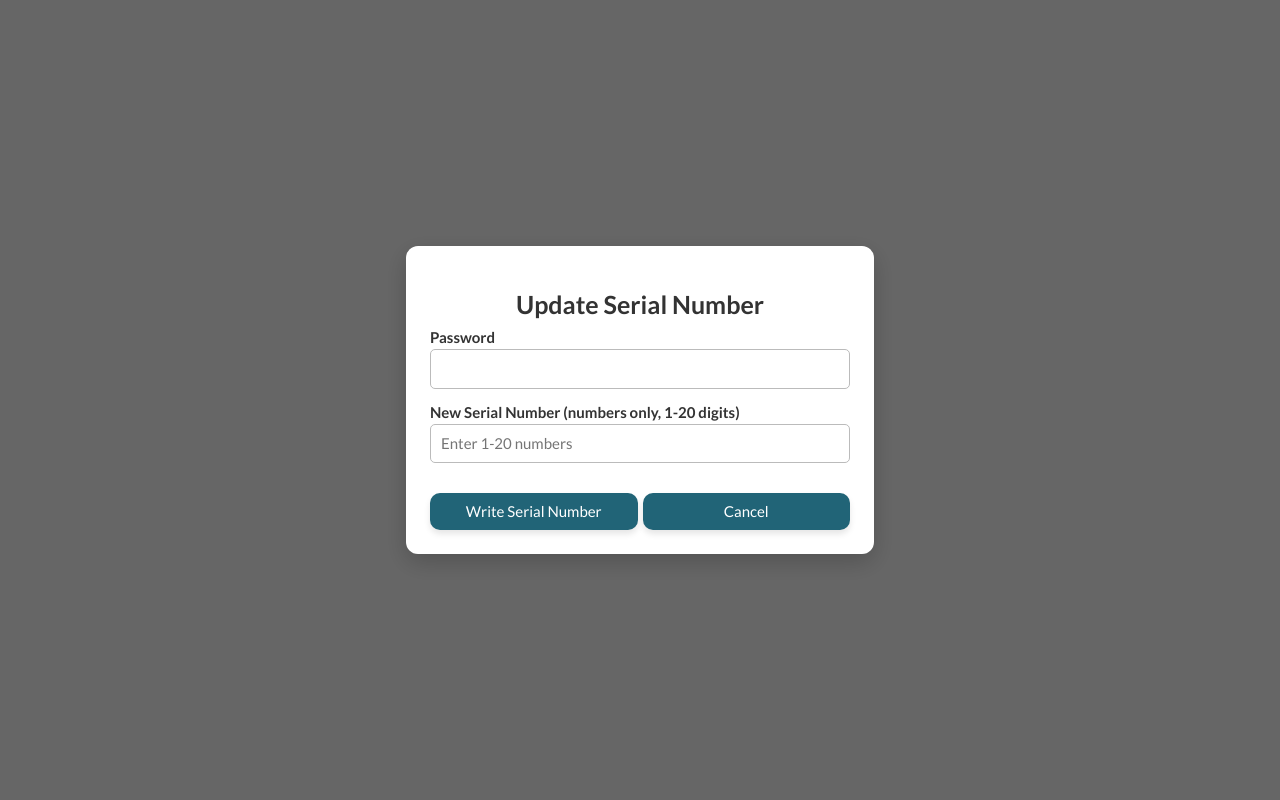
Scenario: SerialNumberModal › shows error when password write fails
Step 1. Type "1111" into the password field labelled "Password" → (640, 369), box [430,349,850,389]
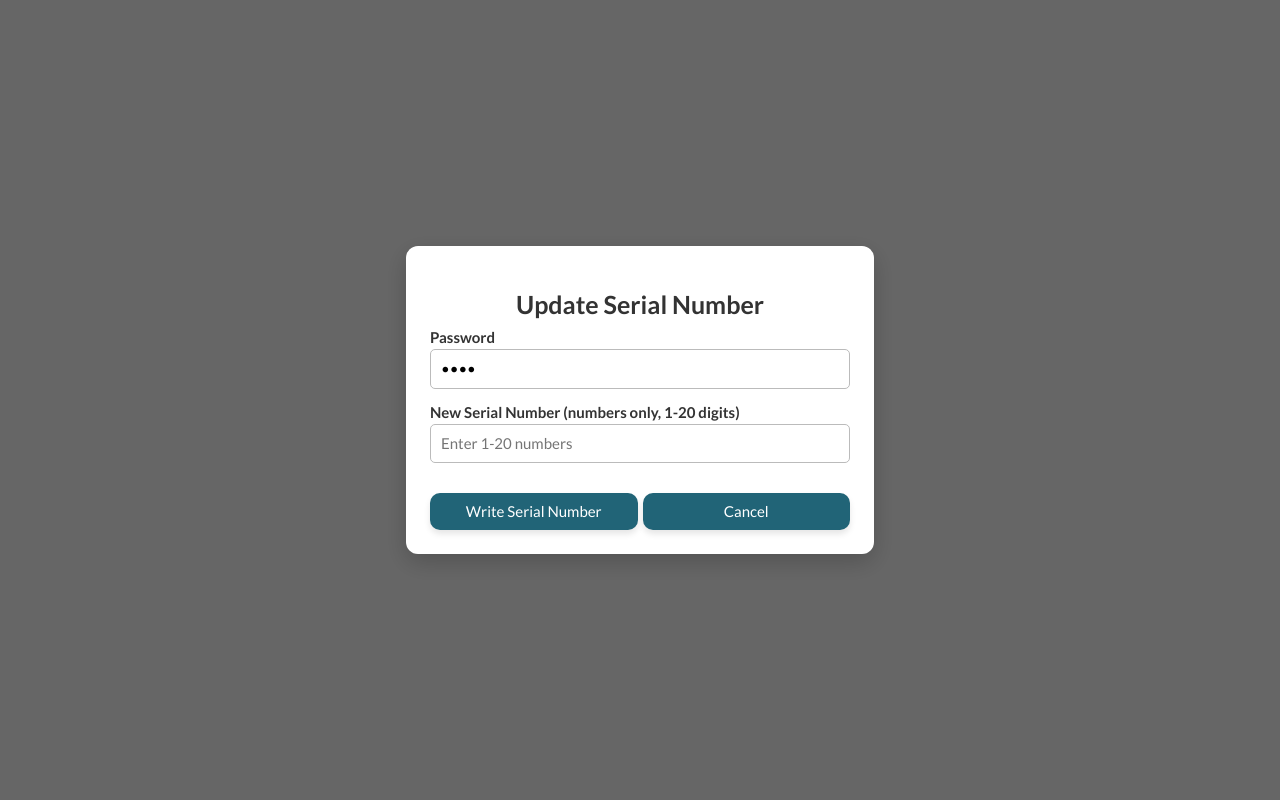
Step 2. Type "12345" into the field labelled "New Serial Number (numbers only, 1-20 digits)" → (640, 444), box [430,424,850,463]
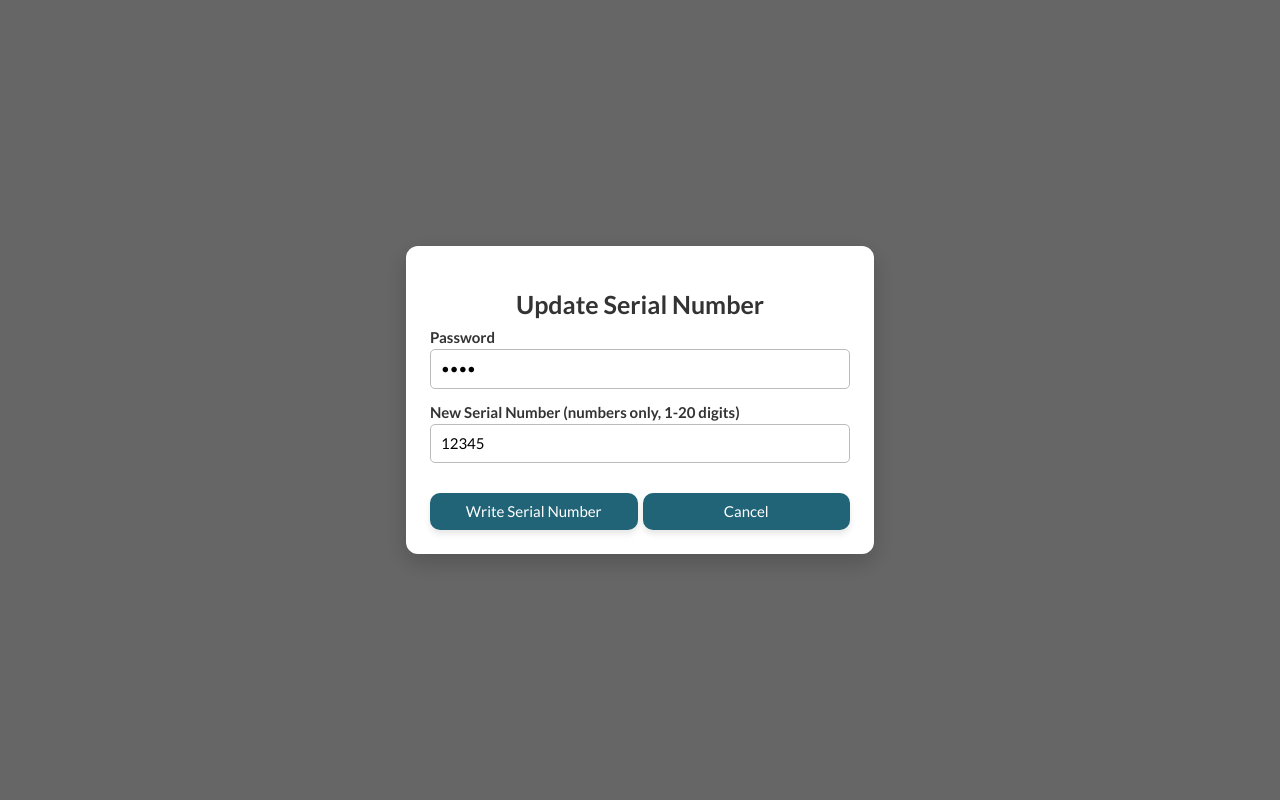
Step 3. Click the button "Write Serial Number" → (534, 512), box [430,493,638,530]
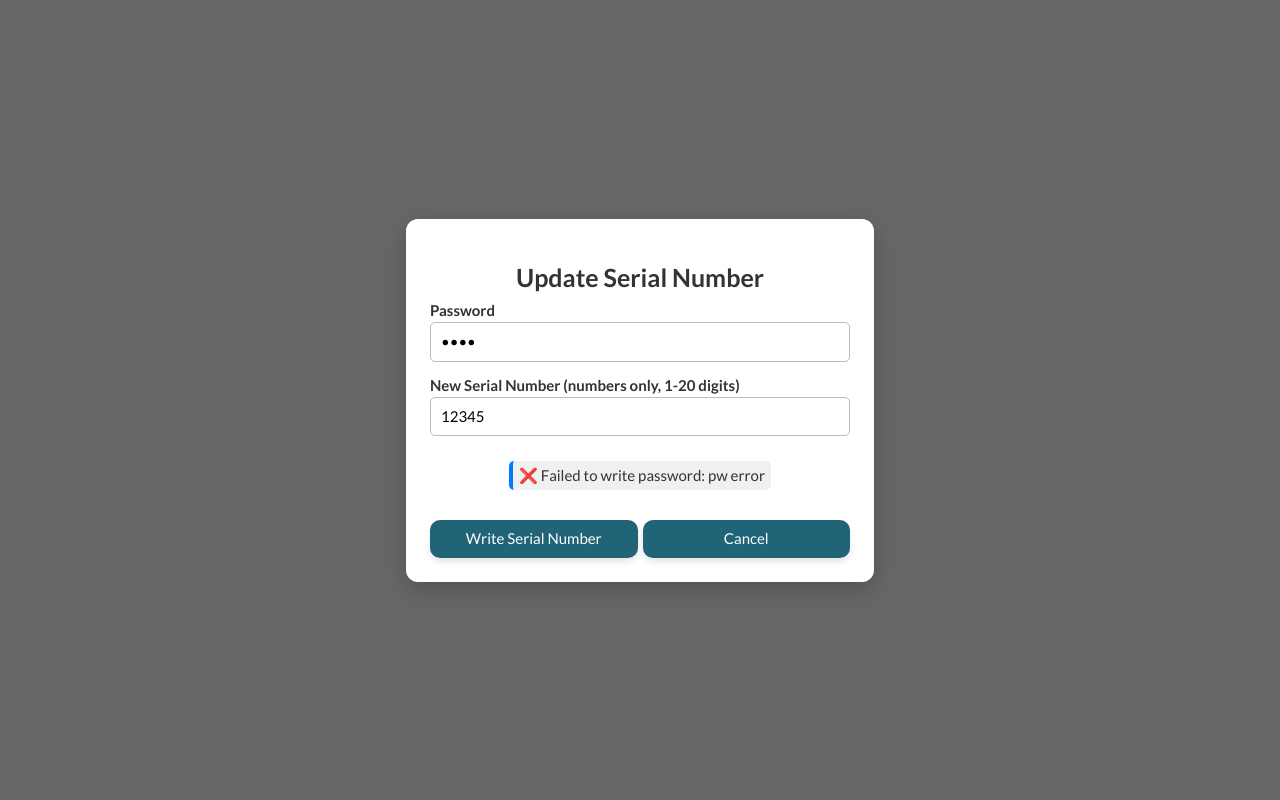
Check: the text "❌ Failed to write password: pw error" is shown, box [509,461,771,490]
